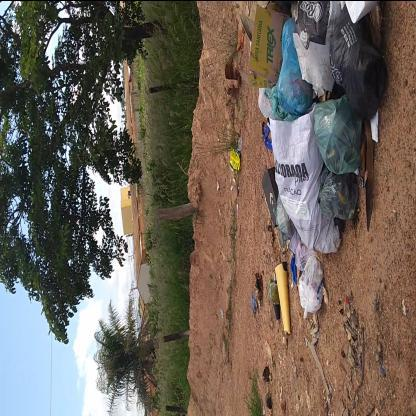lixo: (256, 0, 382, 309)
